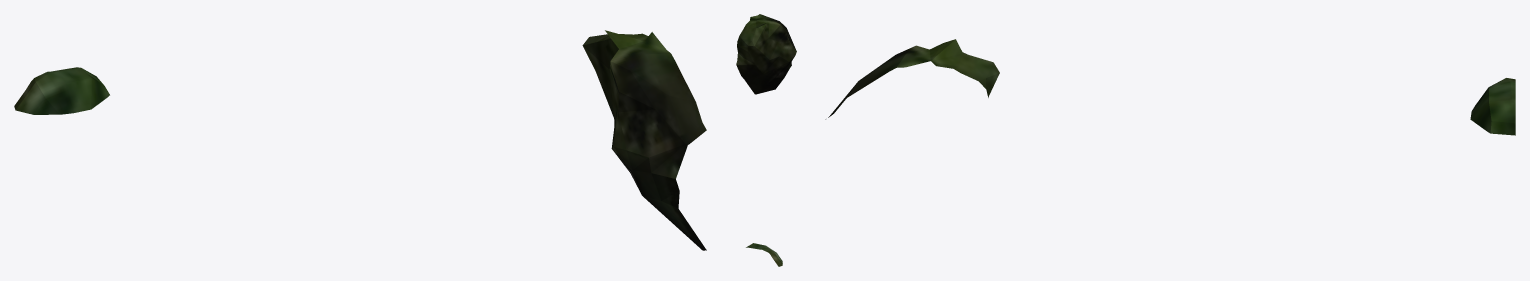
The picture shows the model from 3 angles, left to right: view 1: azimuth 30°, elevation 25°; view 2: azimuth 150°, elevation 25°; view 3: azimuth 270°, elevation 25°; orthographic projection. The views are drawn at different scales.
Size of the model in its own units: 0.9819 by 0.5494 by 1.67.
Materials: 1 (1 with a texture image).
